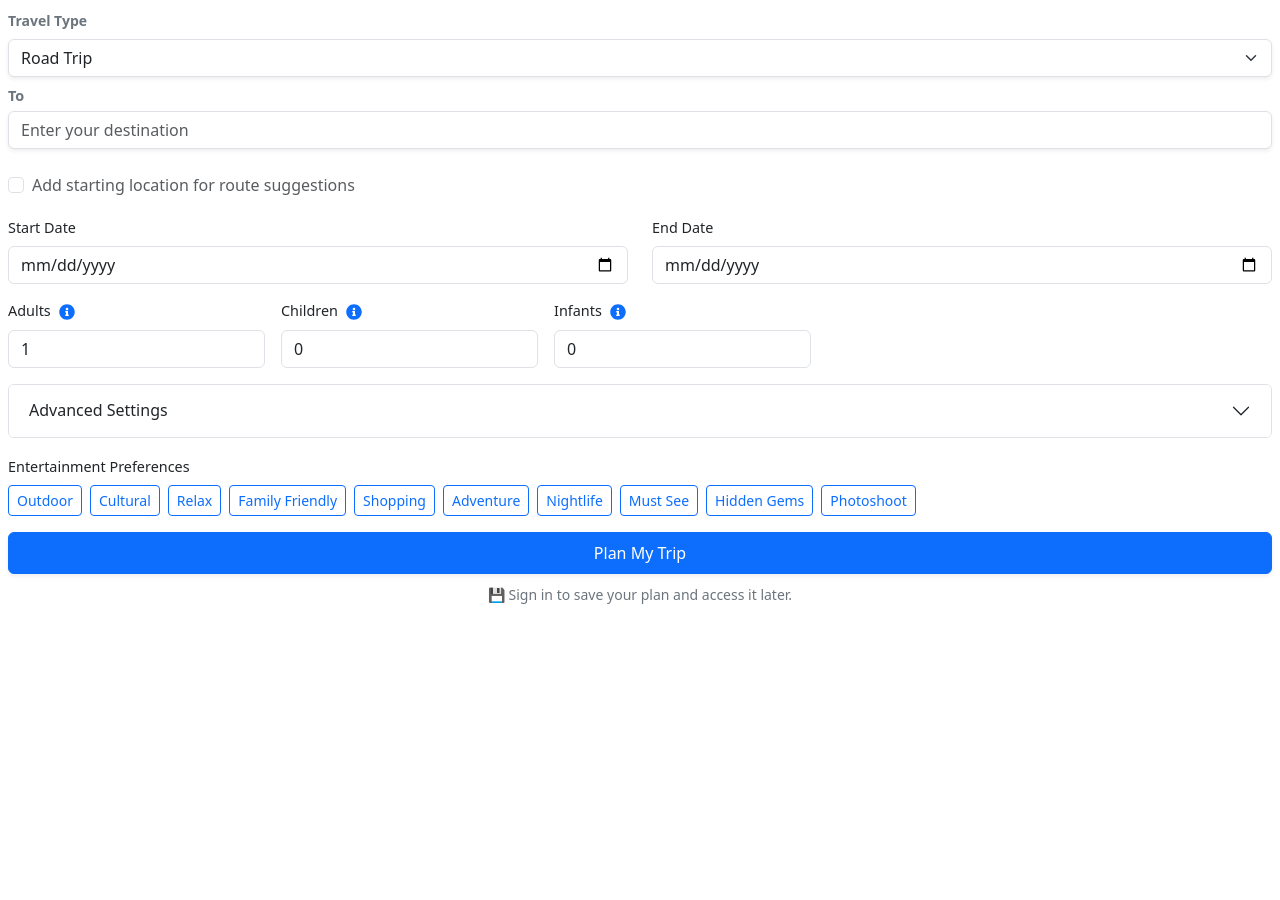
TripForm Photoshoot Feature › shows Instagram handle input when insta-blogger mode is selected
Select photoshoot preference
Click the button "photoshoot": click(869, 501) [821,485,916,516]
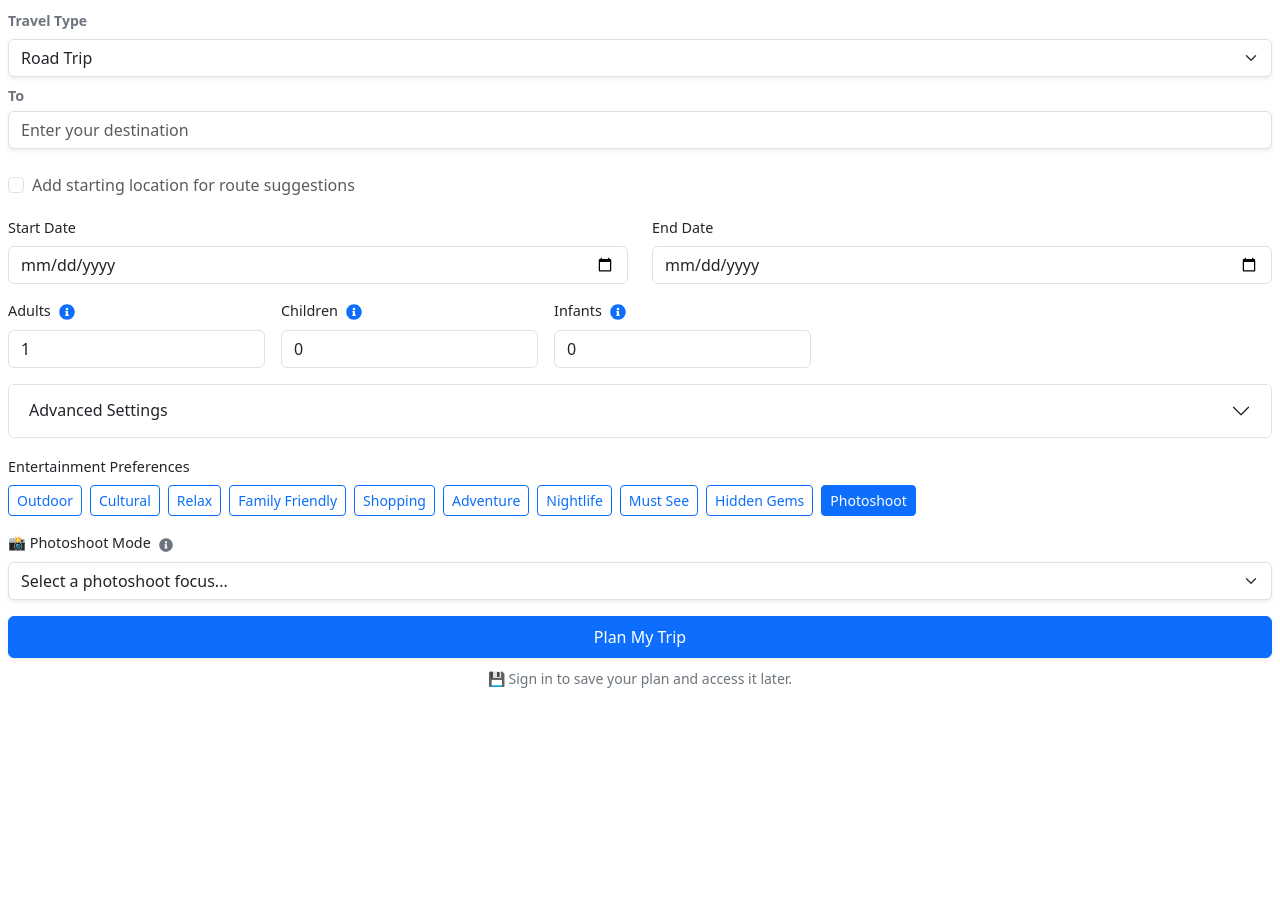
Result: the dropdown below "📸 Photoshoot Mode" is shown
Select "📱 Follow Insta Blogger - Travel in the style of an influencer" in the dropdown below "📸 Photoshoot Mode": (640, 581) [8,562,1272,600]
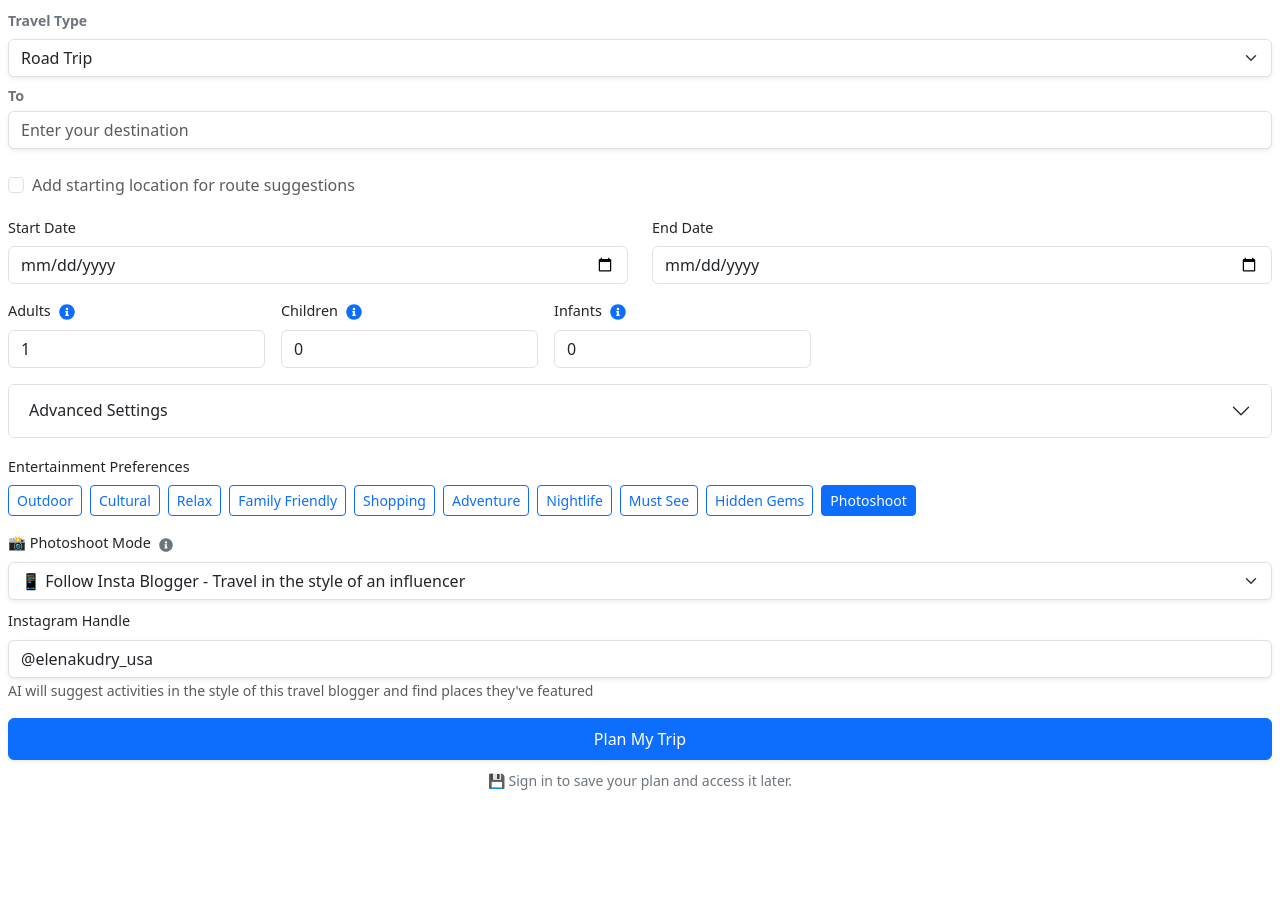
Result: the text "Instagram Handle" is shown at [8,610,130,632]
Result: the field showing "@elenakudry_usa" is shown at [8,640,1272,678]
